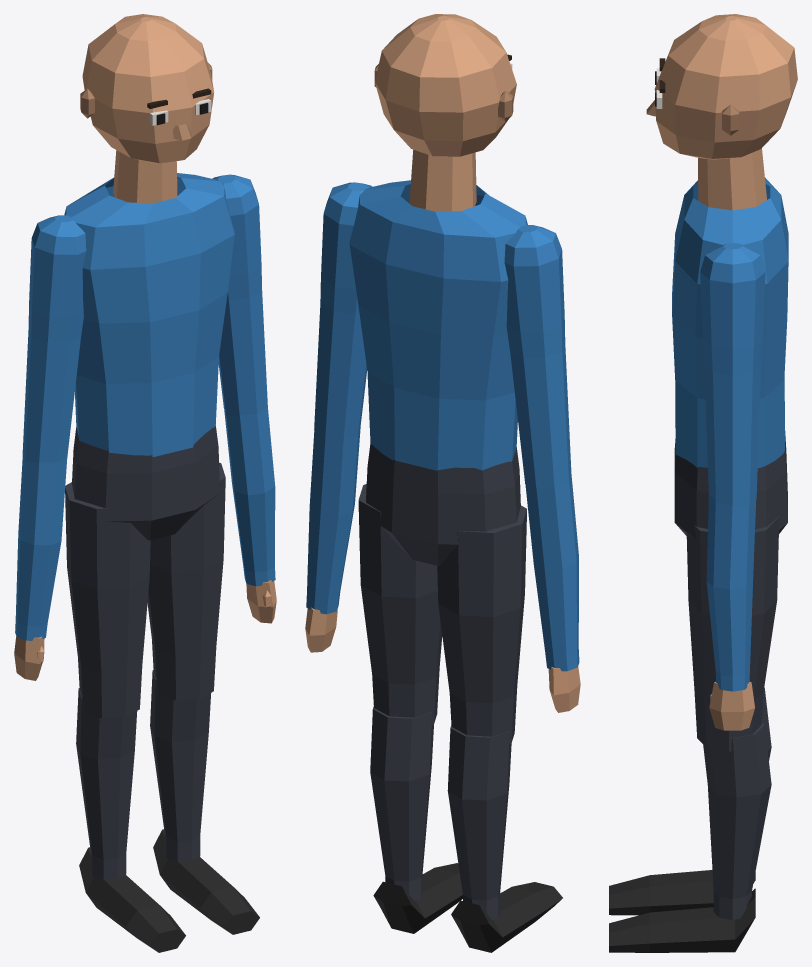
The model's file is enfant_x_mince.glb.
3 renders of one model, left to right at view 1: azimuth 30°, elevation 25°; view 2: azimuth 150°, elevation 25°; view 3: azimuth 270°, elevation 25°, orthographic. The views are drawn at different scales.
Visible parts, largest first — view 1: torse, tete, jambe_d, jambe_g, bras_d, tibia_d, tibia_g, bassin, bras_g, avant_bras_d, avant_bras_g; view 2: torse, tete, jambe_d, bras_d, tibia_d, jambe_g, tibia_g, bassin, bras_g, avant_bras_d, avant_bras_g; view 3: tete, torse, tibia_g, bras_g, avant_bras_g, jambe_g, bassin, tibia_d.
Boxes of the visible parts, box(x1,y1,x2,y2) form: torse: box(64, 173, 234, 456); tete: box(80, 14, 214, 203); jambe_d: box(65, 482, 150, 718); jambe_g: box(147, 462, 225, 700); bras_d: box(22, 215, 86, 464); tibia_d: box(76, 688, 185, 952); tibia_g: box(150, 670, 259, 934); bassin: box(72, 425, 219, 540); bras_g: box(212, 174, 267, 417); avant_bras_d: box(14, 455, 67, 680); avant_bras_g: box(224, 406, 276, 623); torse: box(349, 180, 527, 470); tete: box(374, 14, 516, 211); jambe_d: box(437, 505, 526, 743); bras_d: box(504, 225, 571, 488); tibia_d: box(447, 726, 562, 952); jambe_g: box(358, 484, 442, 724); tibia_g: box(370, 706, 462, 933); bassin: box(366, 443, 520, 565); bras_g: box(314, 182, 372, 439); avant_bras_d: box(525, 474, 580, 712); avant_bras_g: box(305, 426, 360, 652); tete: box(646, 14, 797, 210); torse: box(672, 177, 788, 468); tibia_g: box(609, 722, 771, 952); bras_g: box(700, 243, 765, 507); avant_bras_g: box(706, 495, 755, 730); jambe_g: box(686, 517, 779, 751); bassin: box(674, 431, 787, 539); tibia_d: box(609, 687, 771, 915).
Size of the model in its own units: 0.4159 by 1.36 by 0.2553.
Materials: 1 (1 with a texture image).
